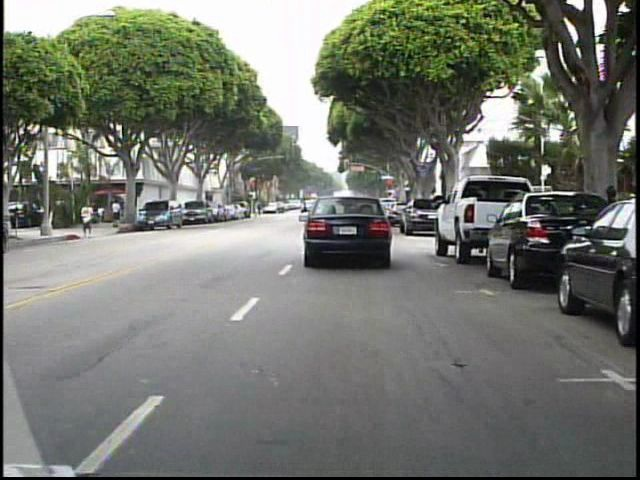person: (77, 196, 96, 239), (112, 196, 126, 228), (252, 199, 265, 220)
